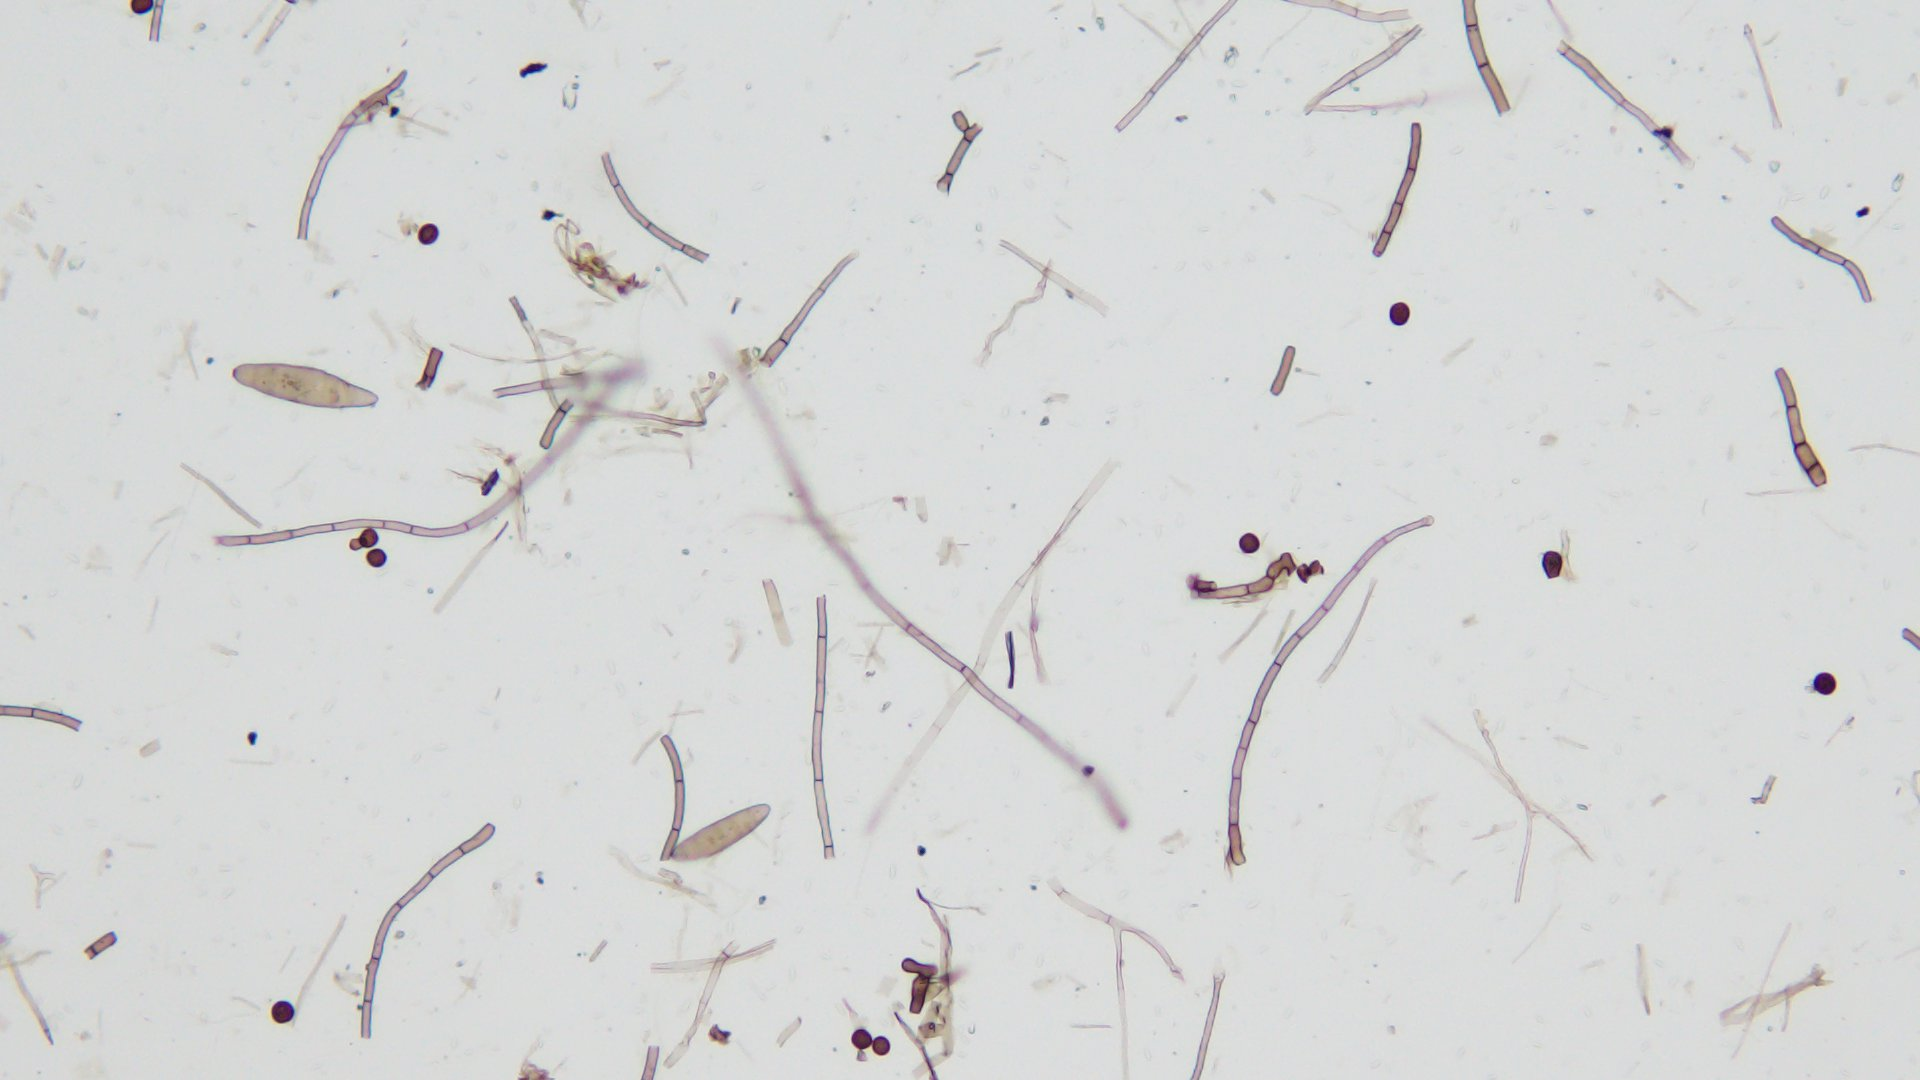dbb_spore: (231, 360, 377, 411), (676, 803, 771, 862)
shs_spore: (1811, 673, 1840, 696), (1542, 550, 1563, 579), (272, 1001, 295, 1025), (355, 527, 378, 547), (1237, 533, 1261, 553), (852, 1027, 872, 1050), (1390, 302, 1410, 324), (872, 1035, 891, 1056), (417, 224, 438, 243), (367, 550, 386, 567)
